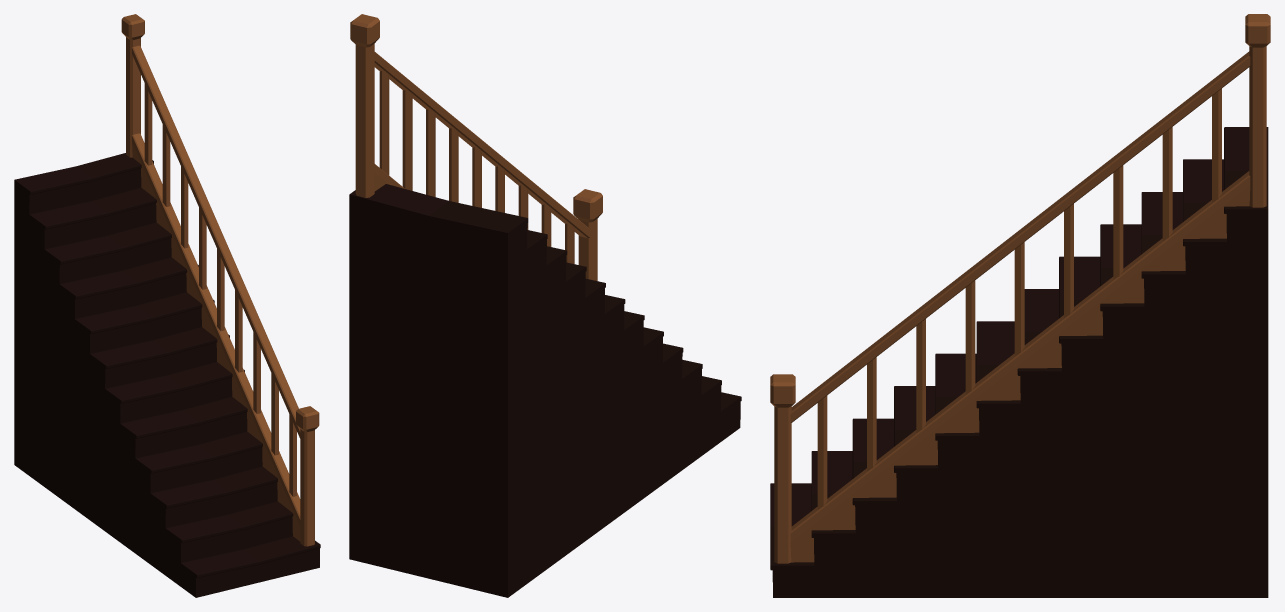
The model's file is ww_staircase_b.glb.
3 renders of one model, left to right at view 1: azimuth 30°, elevation 25°; view 2: azimuth 150°, elevation 25°; view 3: azimuth 270°, elevation 25°, orthographic. The views are drawn at different scales.
Visible parts, largest first — view 1: Staircase_B; view 2: Staircase_B; view 3: Staircase_B.
Boxes of the visible parts, box(x1,y1,x2,y2) form: Staircase_B: box(14, 14, 320, 597); Staircase_B: box(349, 14, 741, 597); Staircase_B: box(770, 14, 1270, 597).
Size of the model in its own units: 1.6 by 5.2 by 4.11.
